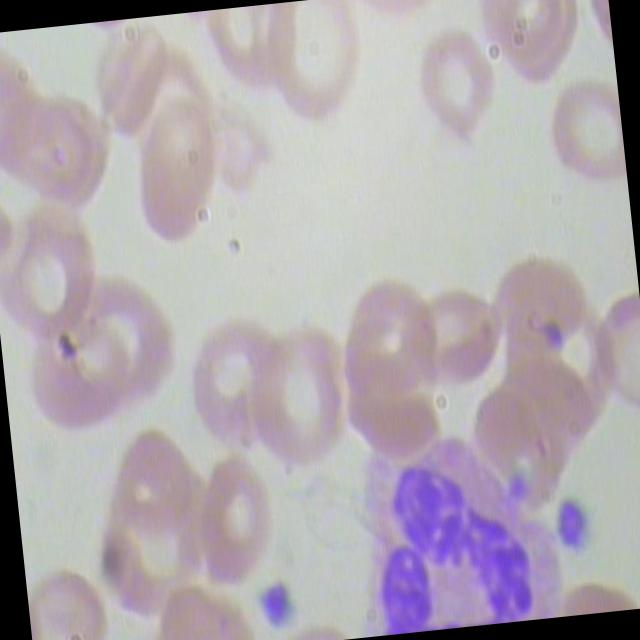Platelets: (248, 570, 312, 634), (548, 489, 598, 567)
RBC: (236, 324, 358, 479), (179, 313, 298, 458), (0, 205, 107, 350), (132, 99, 230, 252), (262, 0, 373, 135), (396, 282, 509, 404), (484, 245, 596, 368), (188, 457, 281, 598), (406, 27, 508, 153), (538, 75, 628, 196), (207, 5, 280, 103), (25, 563, 111, 640)
WBC: (348, 426, 574, 636)
